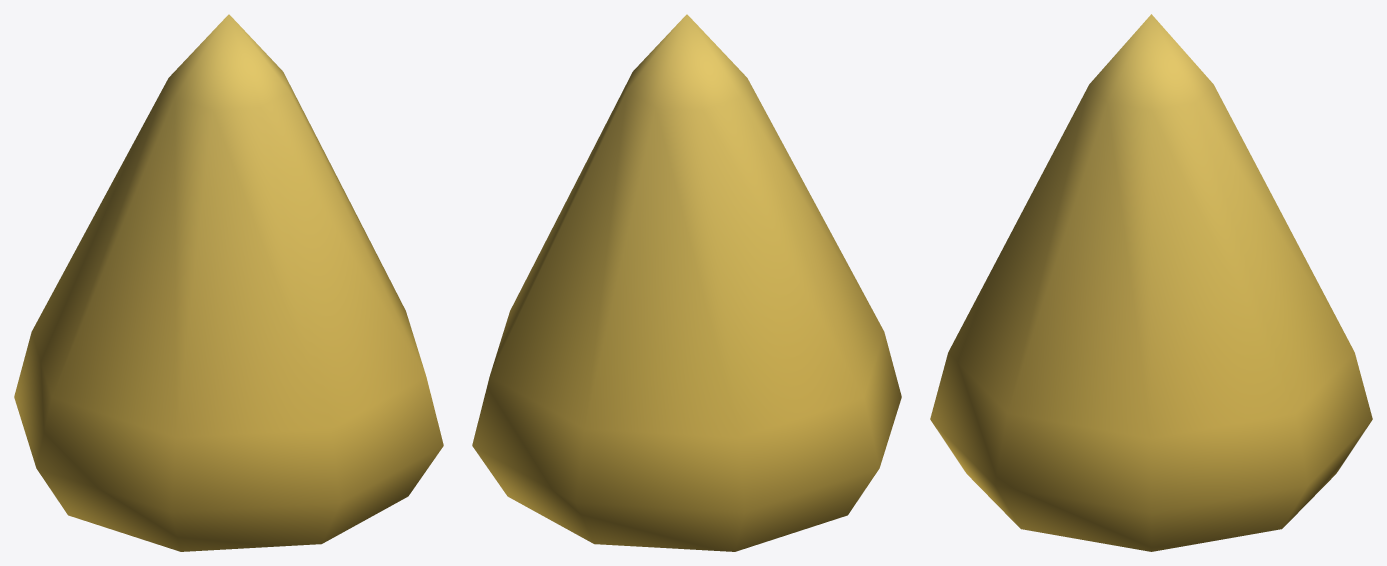
The model's file is T Bush Tall Y.fbx.
3 views of the same model, side by side, from view 1: azimuth 30°, elevation 25°; view 2: azimuth 150°, elevation 25°; view 3: azimuth 270°, elevation 25° (orthographic).
Visible parts, largest first — view 1: Bush Tall Y.001; view 2: Bush Tall Y.001; view 3: Bush Tall Y.001.
Boxes of the visible parts, x1,y1,x2,y2 form: Bush Tall Y.001: (14,14,443,551); Bush Tall Y.001: (472,14,901,551); Bush Tall Y.001: (930,14,1372,551).
Bounding box in the file's own units: 5 × 5.73 × 5.
